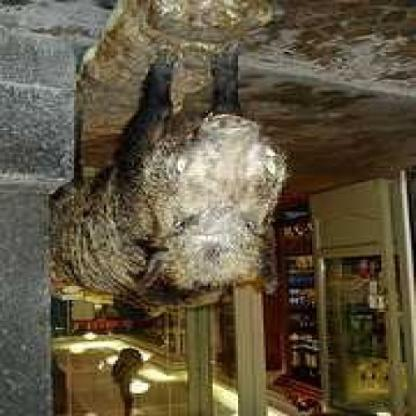boar: (75, 73, 294, 356)
